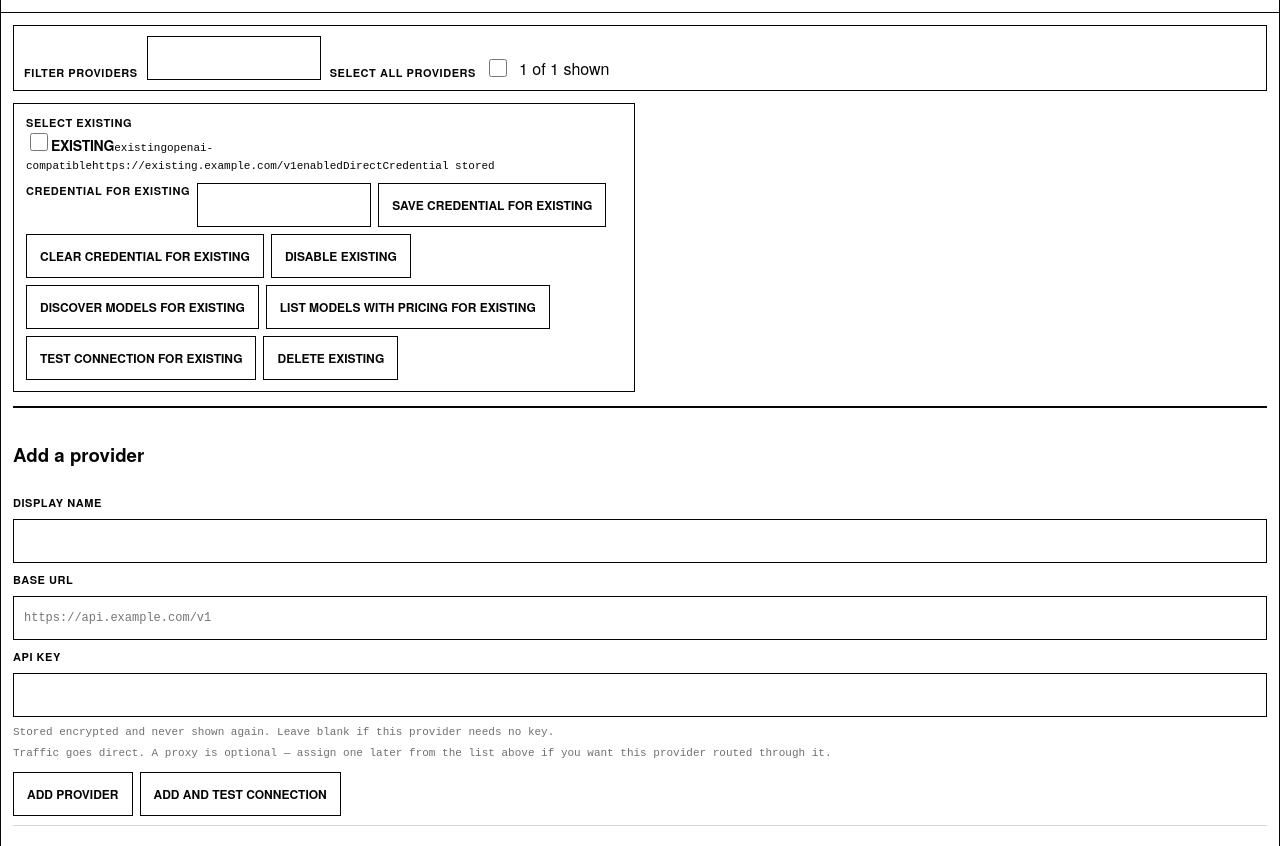
Test: the primary add-provider flow › stores no credential when the key is left blank
Check: the text "Existing" is shown, box x1=51 y1=135 x2=114 y2=155
In the field labelled "Display name": (640, 541) x1=13 y1=519 x2=1267 y2=563, type "Local Runtime"
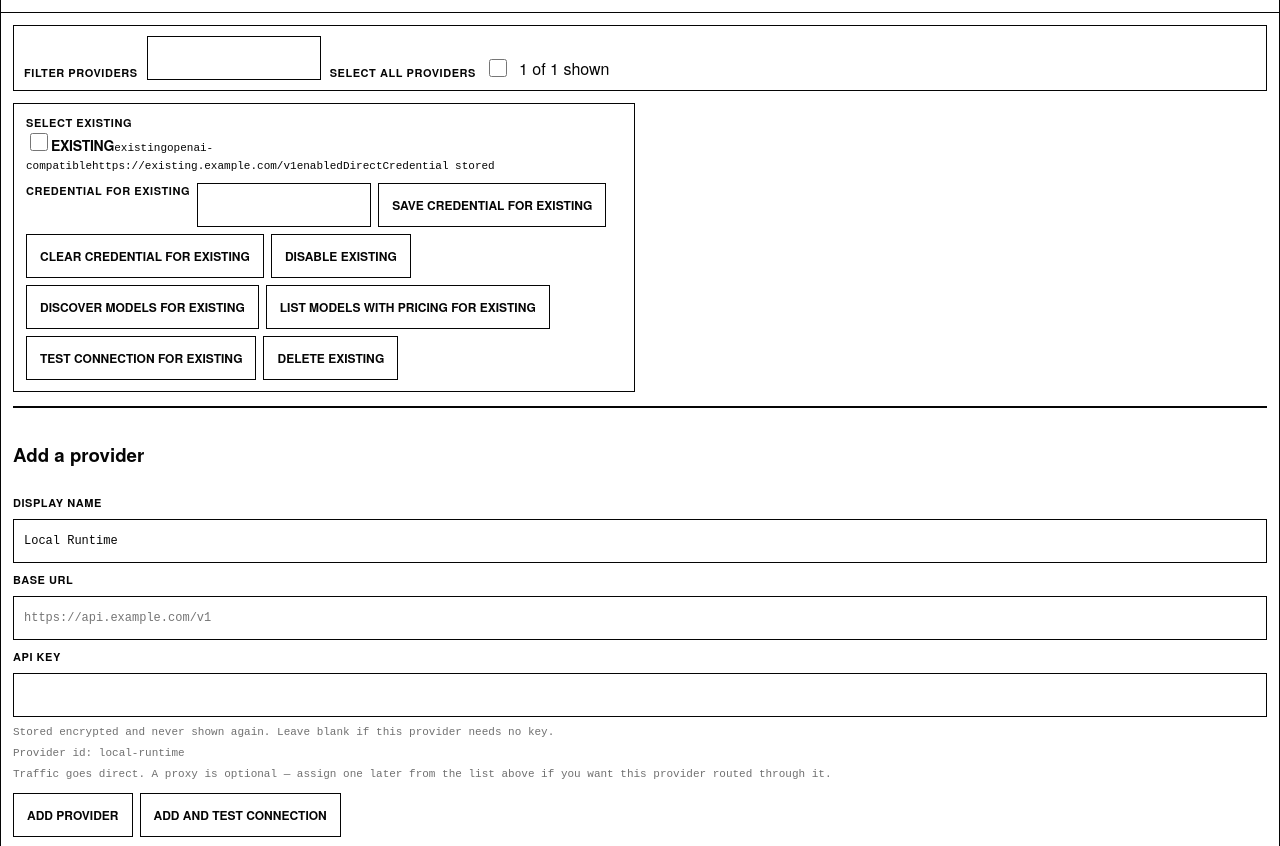
In the field labelled "Base URL": (640, 618) x1=13 y1=596 x2=1267 y2=640, type "https://runtime.example.com/v1"
(page scrolled)
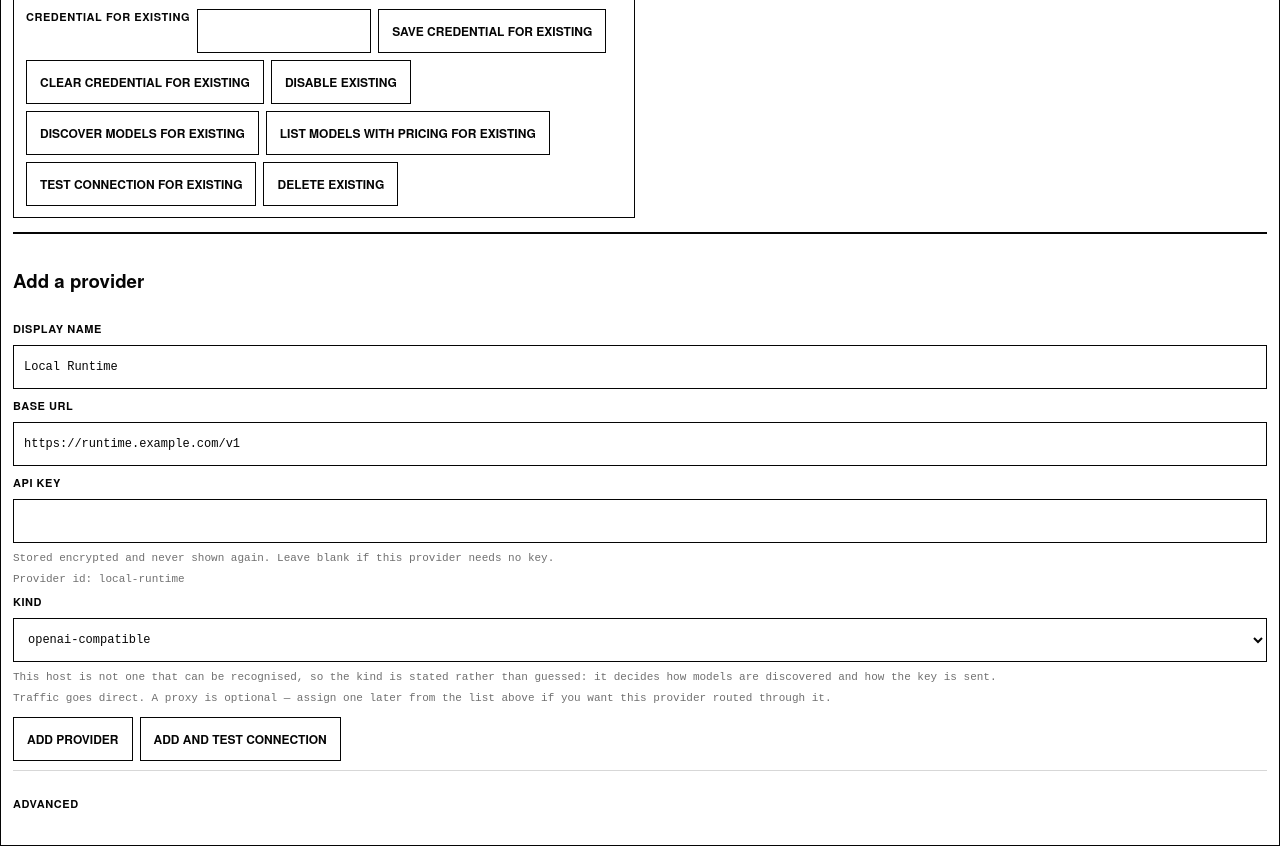
Click the button "Add provider": click(73, 739) x1=13 y1=717 x2=132 y2=761
(page scrolled)
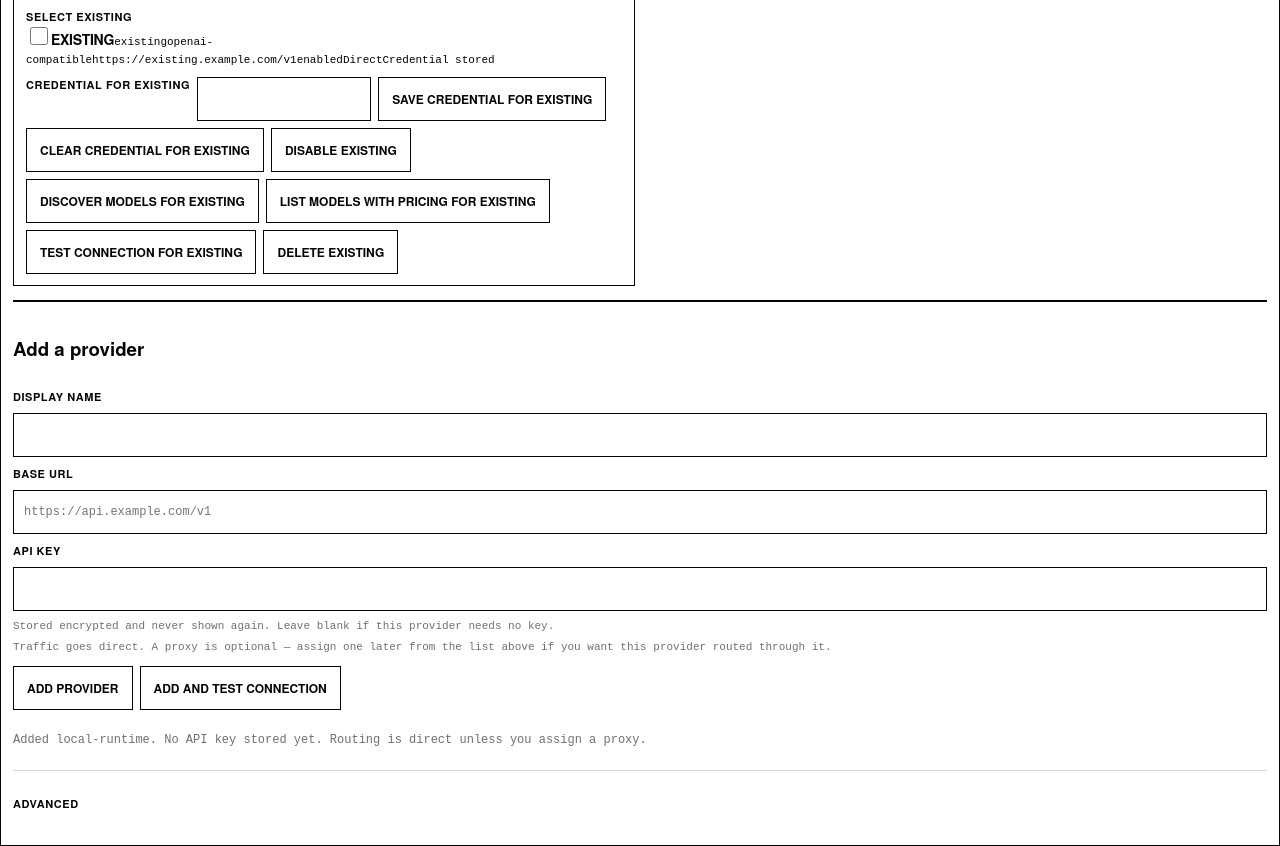
Check: the text with test id "create-result" shows "No API key stored", box x1=13 y1=733 x2=647 y2=747
